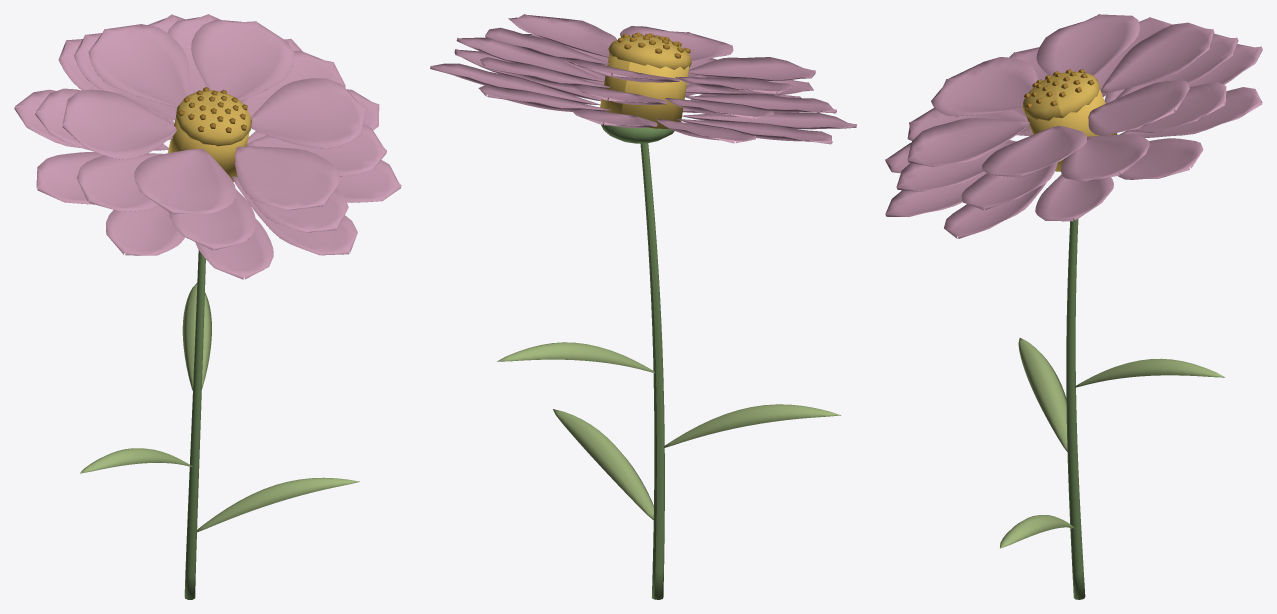
Rendered from cosmos-legendary-v2.glb.
3 views of the same model, side by side, from view 1: azimuth 30°, elevation 25°; view 2: azimuth 150°, elevation 25°; view 3: azimuth 270°, elevation 25° (orthographic). The views are drawn at different scales.
Visible parts, largest first — view 1: cosmos-legendary-v2-petal, cosmos-legendary-v2-leaf, cosmos-legendary-v2-center, cosmos-legendary-v2-stem, cosmos-legendary-v2-pollen; view 2: cosmos-legendary-v2-petal, cosmos-legendary-v2-leaf, cosmos-legendary-v2-stem, cosmos-legendary-v2-center, cosmos-legendary-v2-pollen; view 3: cosmos-legendary-v2-petal, cosmos-legendary-v2-leaf, cosmos-legendary-v2-stem, cosmos-legendary-v2-center, cosmos-legendary-v2-pollen.
Boxes of the visible parts, left/top/right/bottom form: cosmos-legendary-v2-petal: left=14, top=14, right=401, bottom=279; cosmos-legendary-v2-leaf: left=80, top=283, right=359, bottom=532; cosmos-legendary-v2-center: left=168, top=90, right=251, bottom=181; cosmos-legendary-v2-stem: left=184, top=250, right=205, bottom=599; cosmos-legendary-v2-pollen: left=178, top=87, right=247, bottom=132; cosmos-legendary-v2-petal: left=430, top=14, right=856, bottom=144; cosmos-legendary-v2-leaf: left=497, top=342, right=840, bottom=519; cosmos-legendary-v2-stem: left=601, top=124, right=674, bottom=599; cosmos-legendary-v2-center: left=600, top=35, right=691, bottom=129; cosmos-legendary-v2-pollen: left=618, top=32, right=690, bottom=58; cosmos-legendary-v2-petal: left=885, top=14, right=1262, bottom=238; cosmos-legendary-v2-leaf: left=1000, top=338, right=1224, bottom=548; cosmos-legendary-v2-stem: left=1066, top=218, right=1085, bottom=599; cosmos-legendary-v2-center: left=1022, top=71, right=1117, bottom=171; cosmos-legendary-v2-pollen: left=1024, top=69, right=1094, bottom=108.
Bounding box in the file's own units: 1.22 × 1.8 × 1.11.
